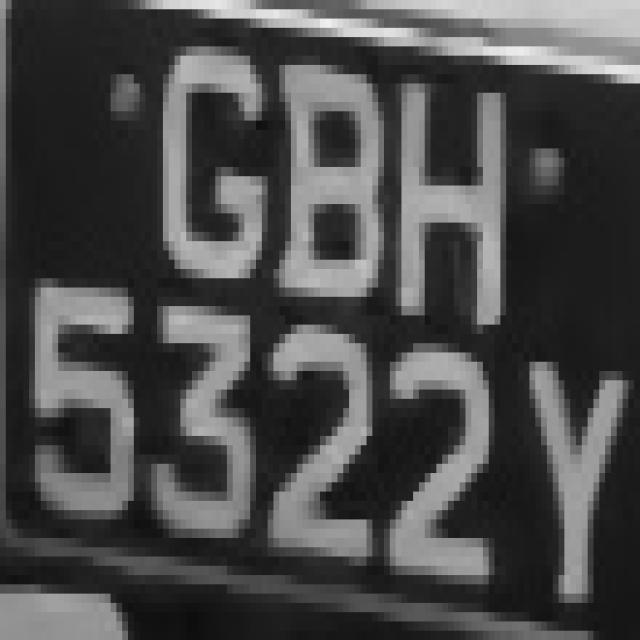2: (372, 306, 518, 622), (250, 288, 372, 584)
3: (140, 259, 250, 556)
5: (11, 223, 140, 547)
B: (262, 46, 396, 344)
G: (146, 28, 274, 297)
H: (384, 56, 512, 371)
Y: (506, 316, 634, 622)
